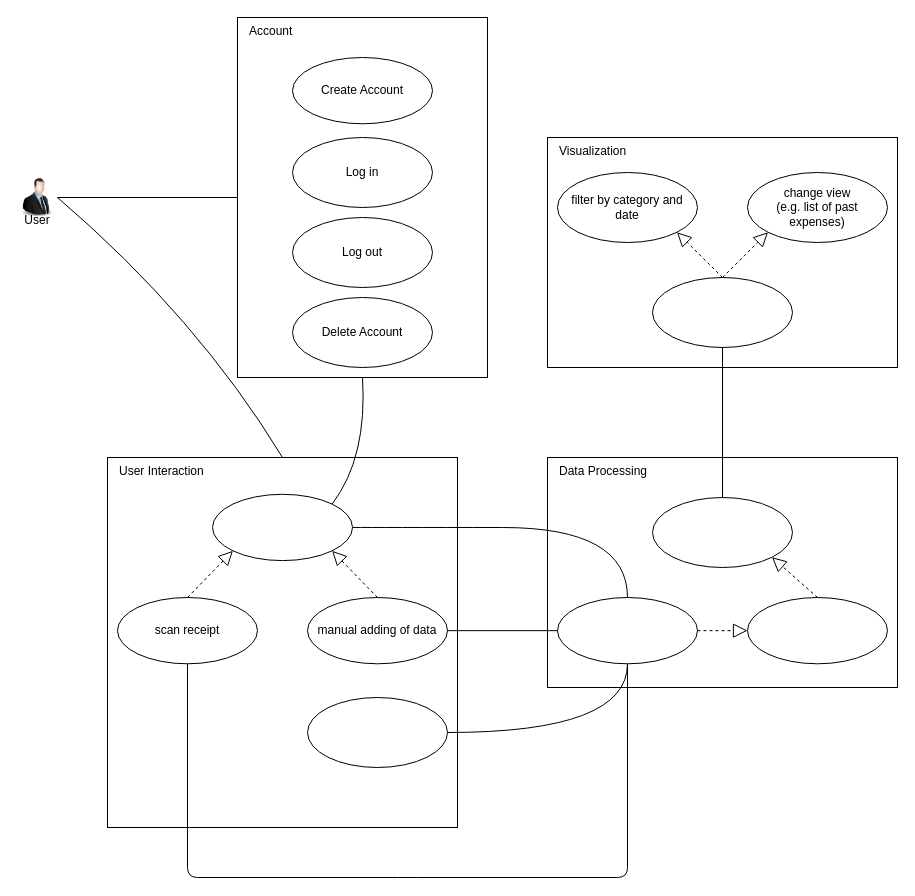
The diagram is 915 pixels wide and 896 high, and some of its shapes have lost their labels. The shapes that lost their labels are listed below. From the top down, each one's box as (x1, y1, x2, y2) in pixels, then its label:
(652, 276, 792, 348): Generate Dashboard
(212, 493, 352, 561): share costs with other users
(652, 496, 792, 568): add to History
(556, 596, 698, 664): categorize
(746, 596, 888, 664): calculate expenses and income by category
(306, 696, 448, 768): add income (kinds: income from selling, income from work…)
